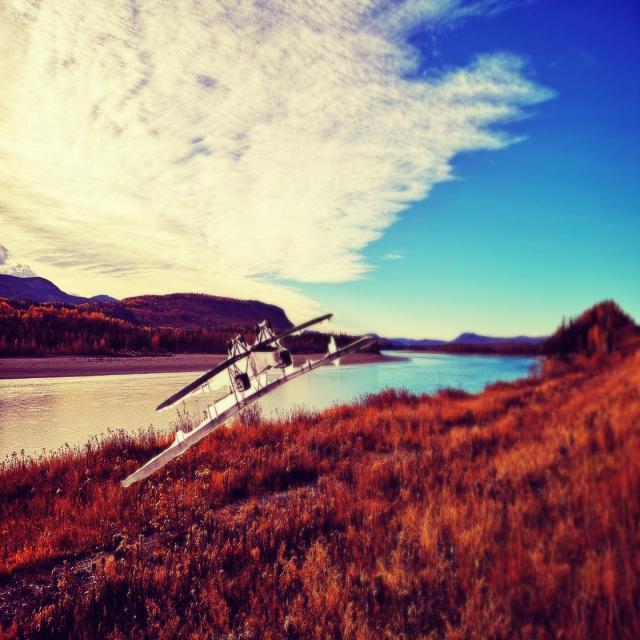airplane: (120, 312, 378, 489)
